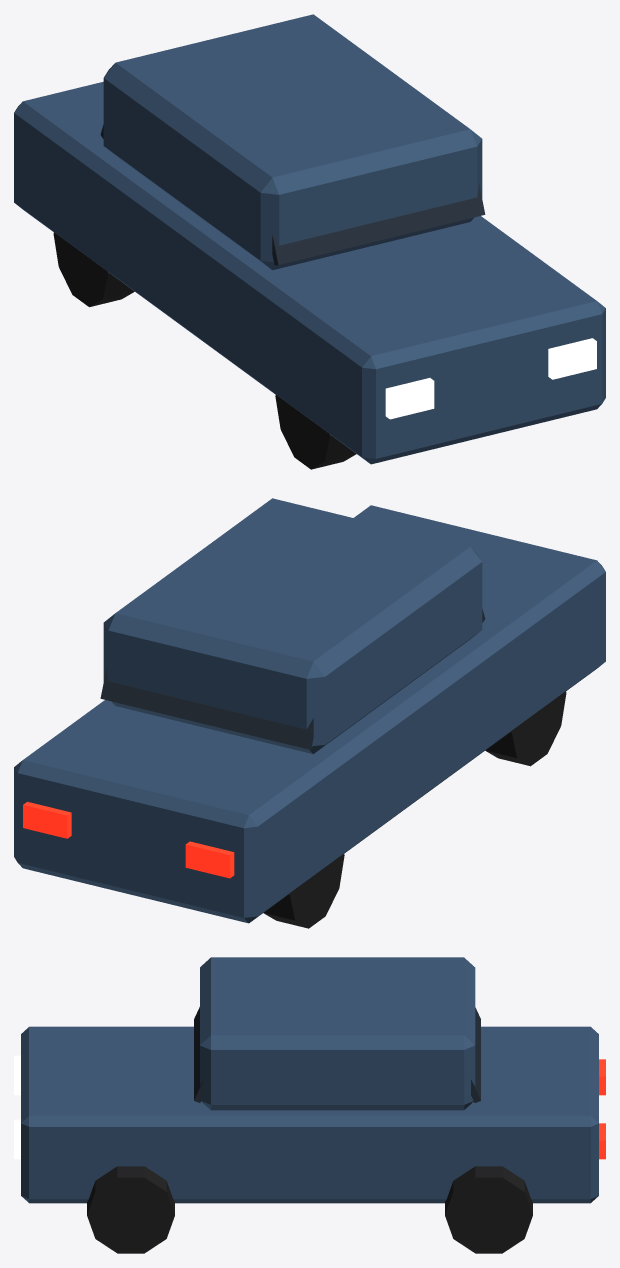
File: car_c.glb
3 renders of one model, top to bottom at view 1: azimuth 30°, elevation 25°; view 2: azimuth 150°, elevation 25°; view 3: azimuth 270°, elevation 25°, orthographic. The views are drawn at different scales.
Parts seen in each view (by area): view 1: car_c; view 2: car_c; view 3: car_c.
Boxes of the visible parts, box(x1,y1,x2,y2) form: car_c: box(14, 14, 605, 469); car_c: box(14, 498, 605, 928); car_c: box(14, 957, 605, 1253).
Size of the model in its own units: 1.85 by 1.58 by 4.3.
